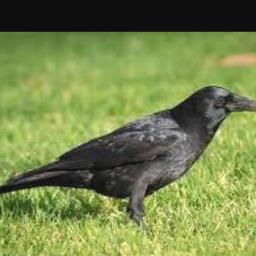Crow: (0, 84, 256, 226)
